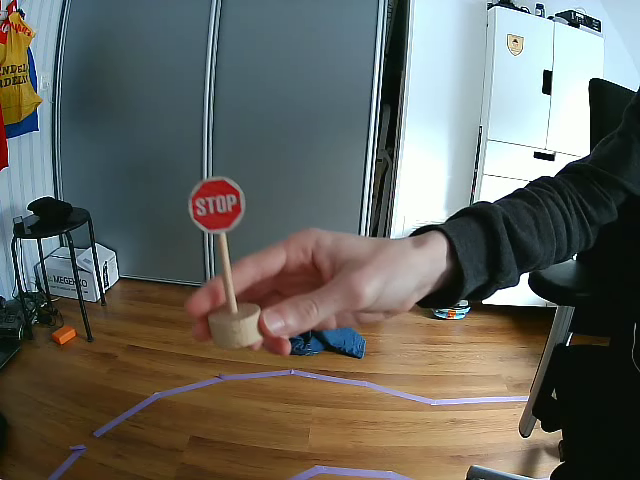stopbord: (190, 177, 243, 233)
